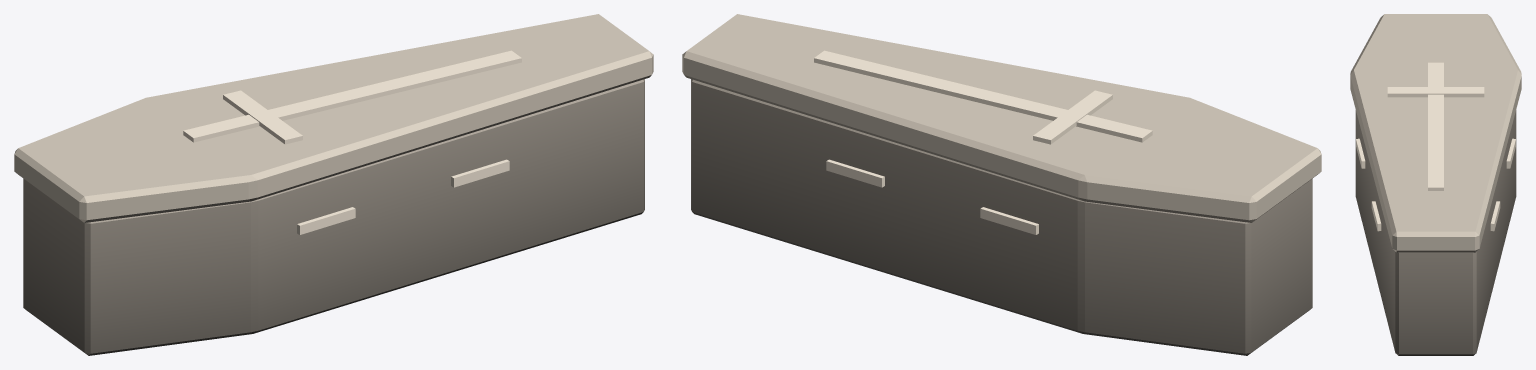
Rendered from SM_VKI_Prop_Coffin.fbx.
The picture shows the model from 3 angles, left to right: view 1: azimuth 30°, elevation 25°; view 2: azimuth 150°, elevation 25°; view 3: azimuth 270°, elevation 25°; orthographic projection. The views are drawn at different scales.
Visible parts, largest first — view 1: SM_VKI_Prop_Coffin.001; view 2: SM_VKI_Prop_Coffin.001; view 3: SM_VKI_Prop_Coffin.001.
Boxes of the visible parts, x1=… form: SM_VKI_Prop_Coffin.001: x1=14, y1=14, x2=653, y2=355; SM_VKI_Prop_Coffin.001: x1=682, y1=14, x2=1321, y2=355; SM_VKI_Prop_Coffin.001: x1=1350, y1=14, x2=1521, y2=355.
Size of the model in its own units: 1.95 by 0.537 by 0.6387.
